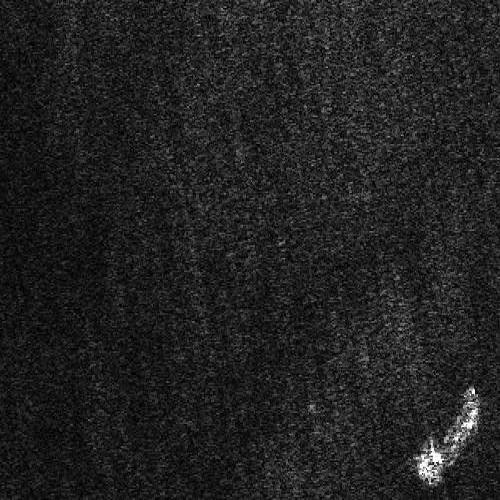ship: (419, 399, 479, 484)
